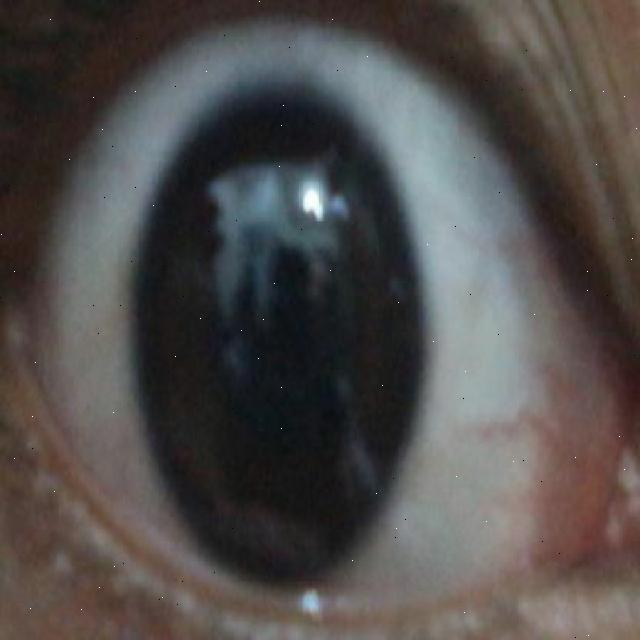Normal: (130, 89, 422, 585)
